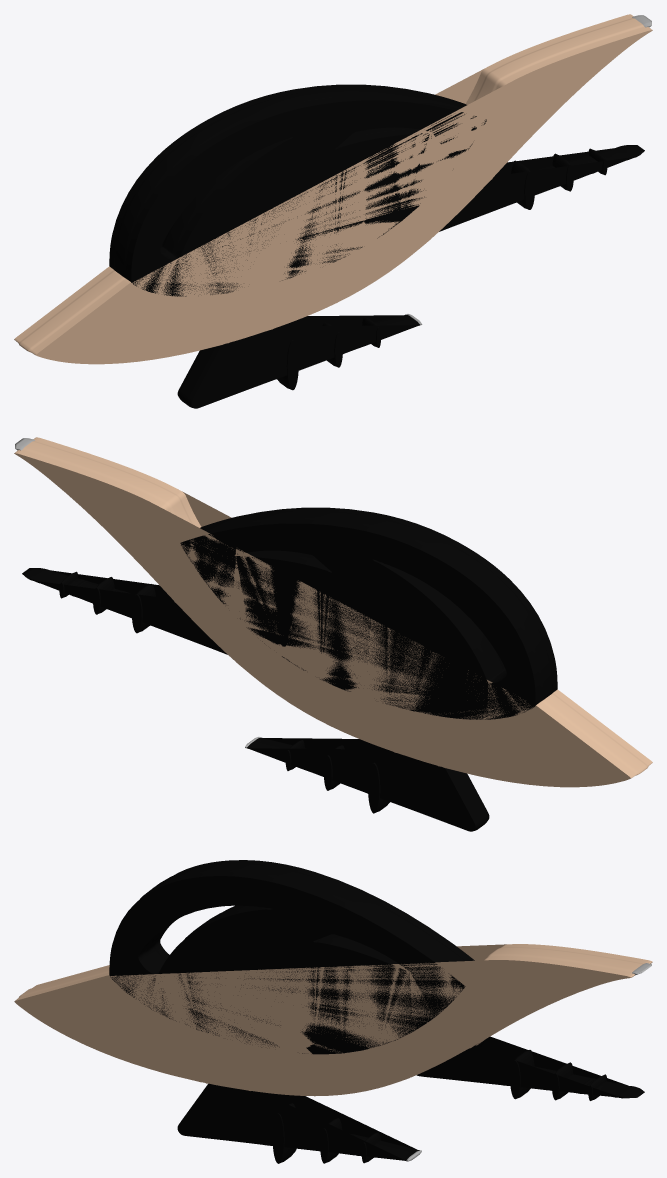
The model's file is ShoutShip.fbx.
The picture shows the model from 3 angles, top to bottom: view 1: azimuth 30°, elevation 25°; view 2: azimuth 150°, elevation 25°; view 3: azimuth 330°, elevation 25°; orthographic projection.
Parts seen in each view (by area): view 1: polySurface2; view 2: polySurface2; view 3: polySurface2.
Boxes of the visible parts, x1,y1,x2,y2 form: polySurface2: (14, 14, 652, 408); polySurface2: (14, 437, 652, 831); polySurface2: (14, 860, 652, 1163).
Bounding box in the file's own units: 57.94 × 25.33 × 3.49.
